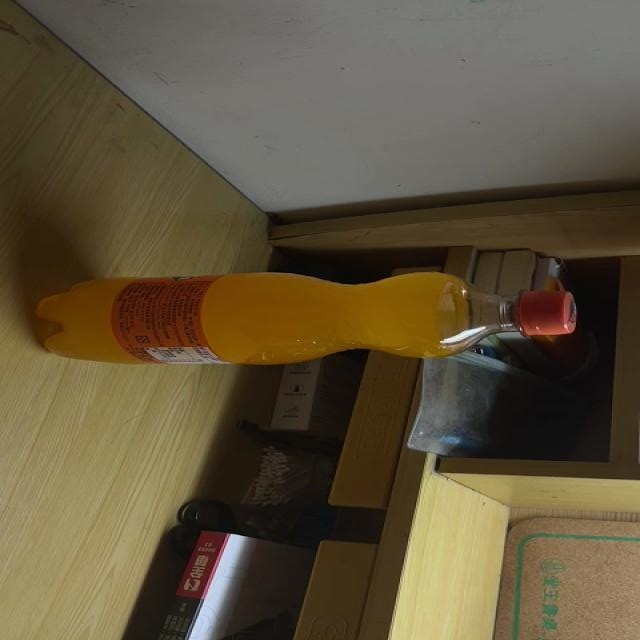Fanta: (35, 272, 579, 367)
